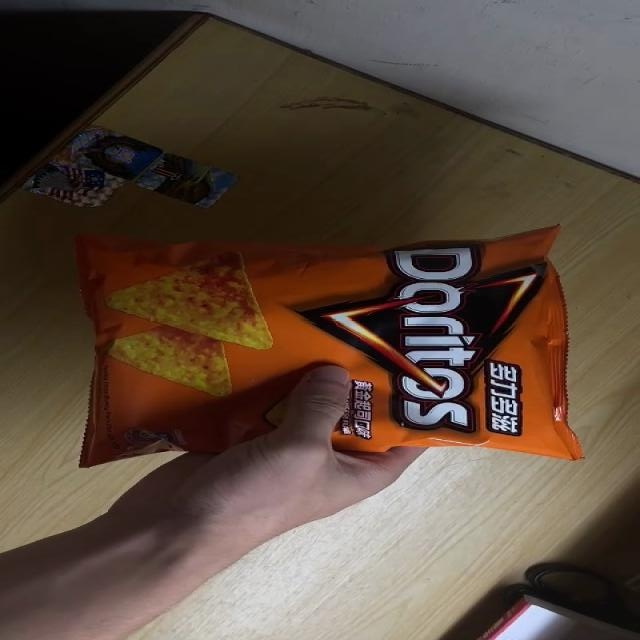Doritos: (70, 219, 585, 469)
